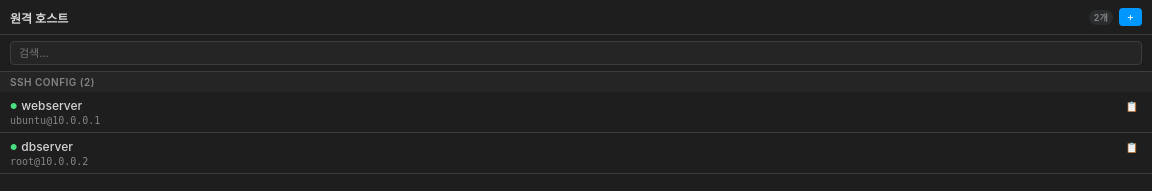
RemotePanel › 검색어 입력 시 이름으로 SSH Config 호스트가 필터링된다
Expected: the text "webserver" is shown, [21, 98, 82, 113]
Type "web" into the field with placeholder "검색...". click: (576, 53)
box: [10, 41, 1142, 65]
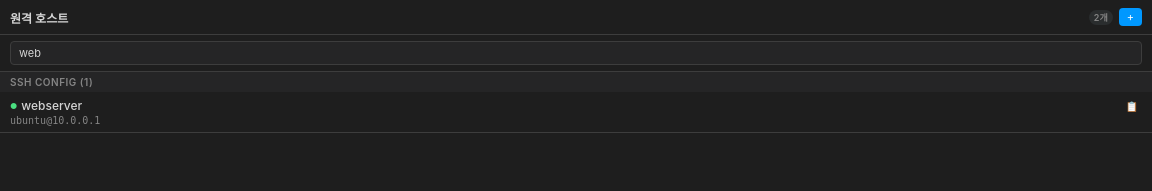
Expected: the text "webserver" is shown, [21, 98, 82, 113]
Result: the text "dbserver" is gone
